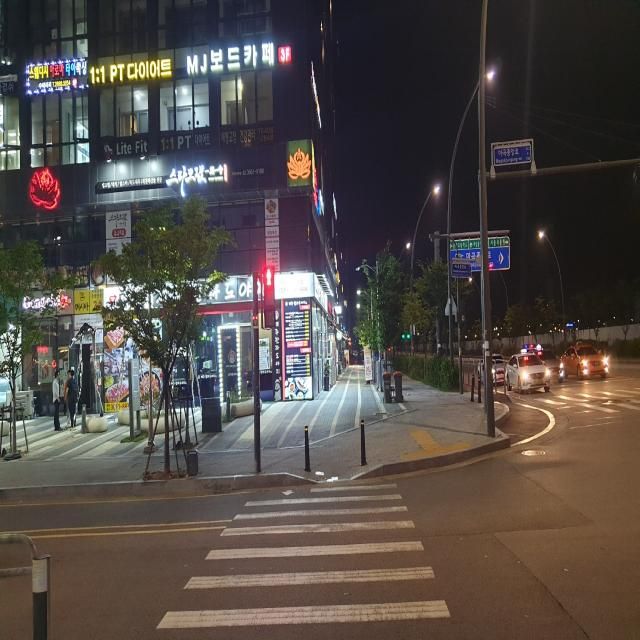빨간불: (258, 270, 280, 334)
횡단보도: (153, 480, 453, 631)
